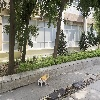fire: (40, 73, 49, 81)
